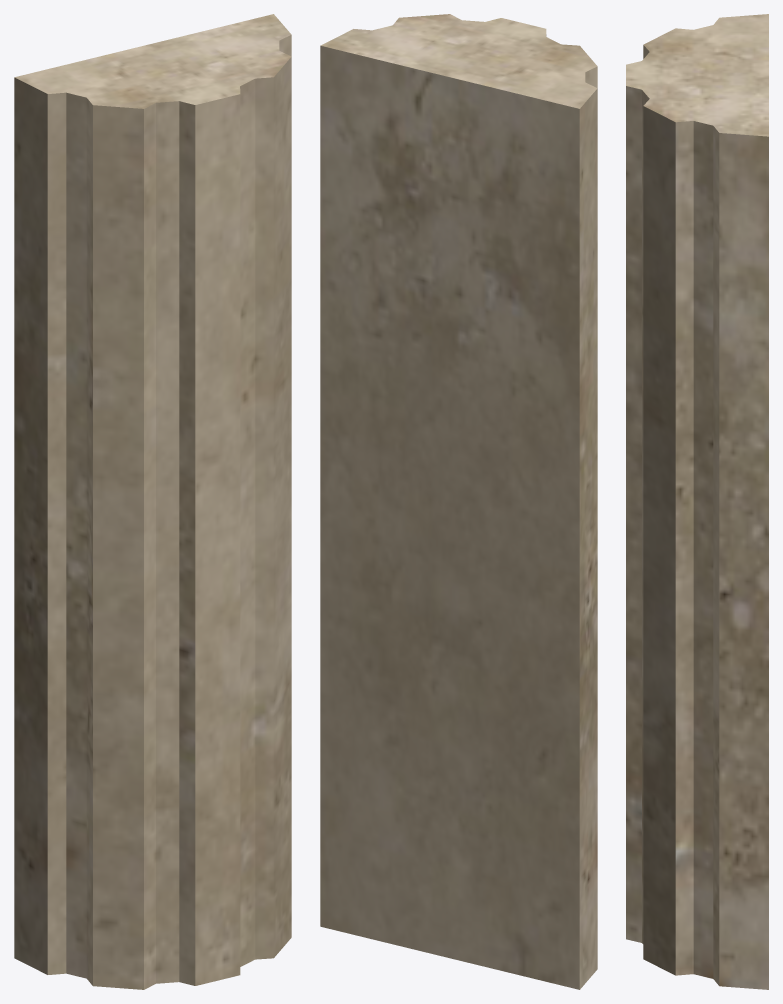
File: column_inner_middle.FBX
3 views of the same model, side by side, from view 1: azimuth 30°, elevation 25°; view 2: azimuth 150°, elevation 25°; view 3: azimuth 270°, elevation 25° (orthographic). The views are drawn at different scales.
Parts seen in each view (by area): view 1: Object009; view 2: Object009; view 3: Object009.
Part boxes in pixels (<box>): Object009: <box>14,14,291,989</box>; Object009: <box>320,14,597,989</box>; Object009: <box>626,14,768,989</box>.
Bounding box in the file's own units: 23.11 × 75 × 11.38.
